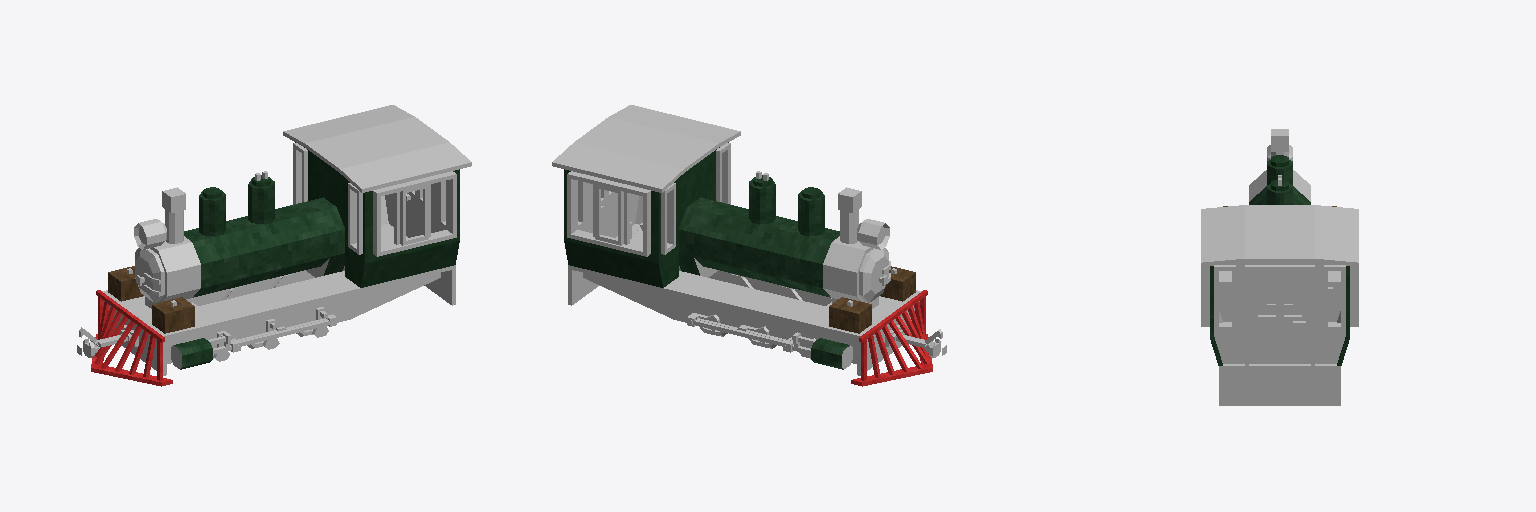
3 renders of one model, left to right at view 1: azimuth 30°, elevation 25°; view 2: azimuth 150°, elevation 25°; view 3: azimuth 270°, elevation 25°, orthographic.
Visible parts, largest first — view 1: FRAME.cab, FRAME.boiler, FRAME, COUPLER_ENGAGED_FRONT_1_TOGGLE_LABEL_Uncouple, FRAME.toolbox.001, FRAME.dome, FRAME.dome.001, STEAM_CHEST_1, FRAME.toolbox, DOOR_2_CONNECTING, WIDGET_1_TOGGLE_CG_headfront_LABEL_Front^Headlight, MAIN_ROD_LEFT (+3 smaller); view 2: FRAME.cab, FRAME.boiler, FRAME, COUPLER_ENGAGED_FRONT_1_TOGGLE_LABEL_Uncouple, FRAME.toolbox, FRAME.dome, FRAME.dome.001, STEAM_CHEST_1, DOOR_2_CONNECTING, FRAME.toolbox.001, WIDGET_1_TOGGLE_CG_headfront_LABEL_Front^Headlight, MAIN_ROD_RIGHT (+2 smaller); view 3: FRAME.cab, FRAME, DOOR_2_CONNECTING, FRAME.boiler, FRAME.dome, FRAME.dome.001.
Boxes of the visible parts, x1=… form: FRAME.cab: x1=283, y1=105, x2=471, y2=287; FRAME.boiler: x1=135, y1=197, x2=344, y2=308; FRAME: x1=102, y1=224, x2=455, y2=375; COUPLER_ENGAGED_FRONT_1_TOGGLE_LABEL_Uncouple: x1=77, y1=290, x2=172, y2=386; FRAME.toolbox.001: x1=152, y1=297, x2=194, y2=333; FRAME.dome: x1=199, y1=187, x2=225, y2=236; FRAME.dome.001: x1=248, y1=175, x2=274, y2=224; STEAM_CHEST_1: x1=171, y1=336, x2=231, y2=369; FRAME.toolbox: x1=108, y1=266, x2=143, y2=301; DOOR_2_CONNECTING: x1=406, y1=184, x2=432, y2=237; WIDGET_1_TOGGLE_CG_headfront_LABEL_Front^Headlight: x1=134, y1=219, x2=166, y2=249; MAIN_ROD_LEFT: x1=230, y1=316, x2=336, y2=352; FRAME.cab: x1=552, y1=105, x2=740, y2=287; FRAME.boiler: x1=679, y1=197, x2=888, y2=308; FRAME: x1=568, y1=224, x2=921, y2=375; COUPLER_ENGAGED_FRONT_1_TOGGLE_LABEL_Uncouple: x1=851, y1=290, x2=946, y2=386; FRAME.toolbox: x1=829, y1=297, x2=871, y2=333; FRAME.dome: x1=798, y1=187, x2=824, y2=236; FRAME.dome.001: x1=749, y1=175, x2=775, y2=224; STEAM_CHEST_1: x1=792, y1=336, x2=852, y2=369; DOOR_2_CONNECTING: x1=591, y1=184, x2=617, y2=237; FRAME.toolbox.001: x1=880, y1=266, x2=915, y2=301; WIDGET_1_TOGGLE_CG_headfront_LABEL_Front^Headlight: x1=857, y1=219, x2=889, y2=249; MAIN_ROD_RIGHT: x1=687, y1=316, x2=793, y2=352; FRAME.cab: x1=1201, y1=205, x2=1358, y2=365; FRAME: x1=1219, y1=271, x2=1340, y2=405; DOOR_2_CONNECTING: x1=1249, y1=271, x2=1310, y2=363; FRAME.boiler: x1=1249, y1=170, x2=1310, y2=314; FRAME.dome: x1=1267, y1=155, x2=1292, y2=184; FRAME.dome.001: x1=1267, y1=180, x2=1292, y2=204.
Bounding box in the file's own units: 5.81 × 2.62 × 2.25.
Materials: 7 (3 with a texture image).